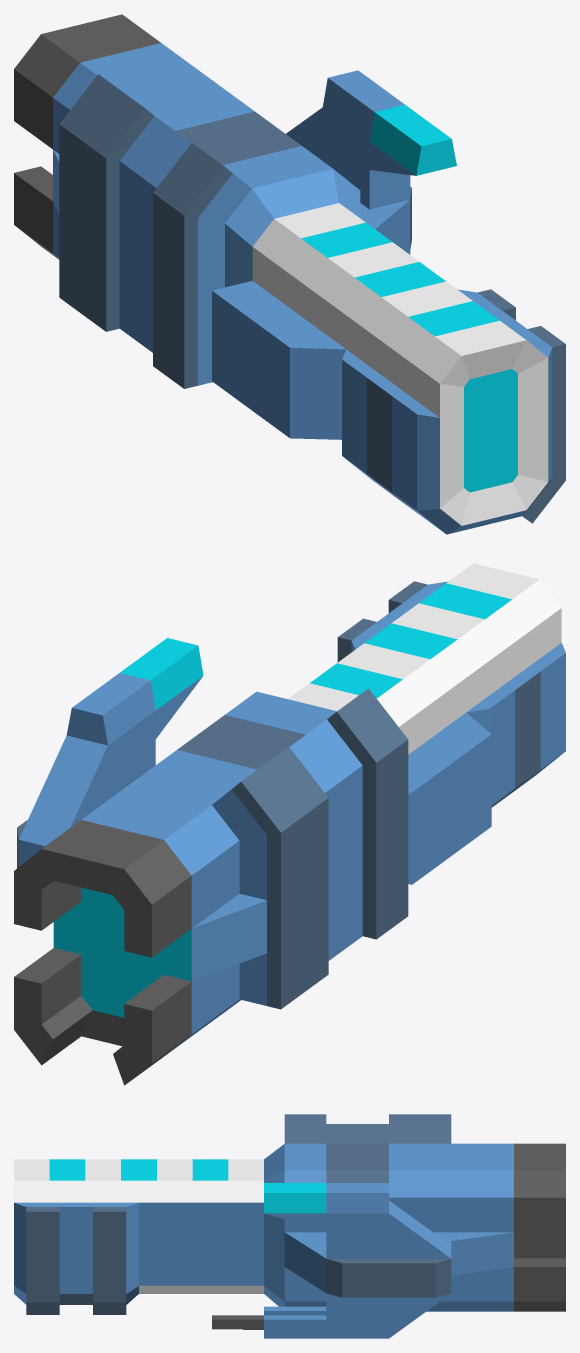
The model's file is block_frigate_cannon.fbx.
3 renders of one model, top to bottom at view 1: azimuth 30°, elevation 25°; view 2: azimuth 150°, elevation 25°; view 3: azimuth 270°, elevation 25°, orthographic. The views are drawn at different scales.
Parts seen in each view (by area): view 1: blk_frigate_cannon; view 2: blk_frigate_cannon; view 3: blk_frigate_cannon.
Part boxes in pixels (x1,y1,x2,y2): blk_frigate_cannon: [14, 14, 565, 534]; blk_frigate_cannon: [14, 563, 565, 1085]; blk_frigate_cannon: [14, 1114, 565, 1338].
Size of the model in its own units: 17.6 by 15.2 by 46.64.
Materials: 1 (1 with a texture image).
